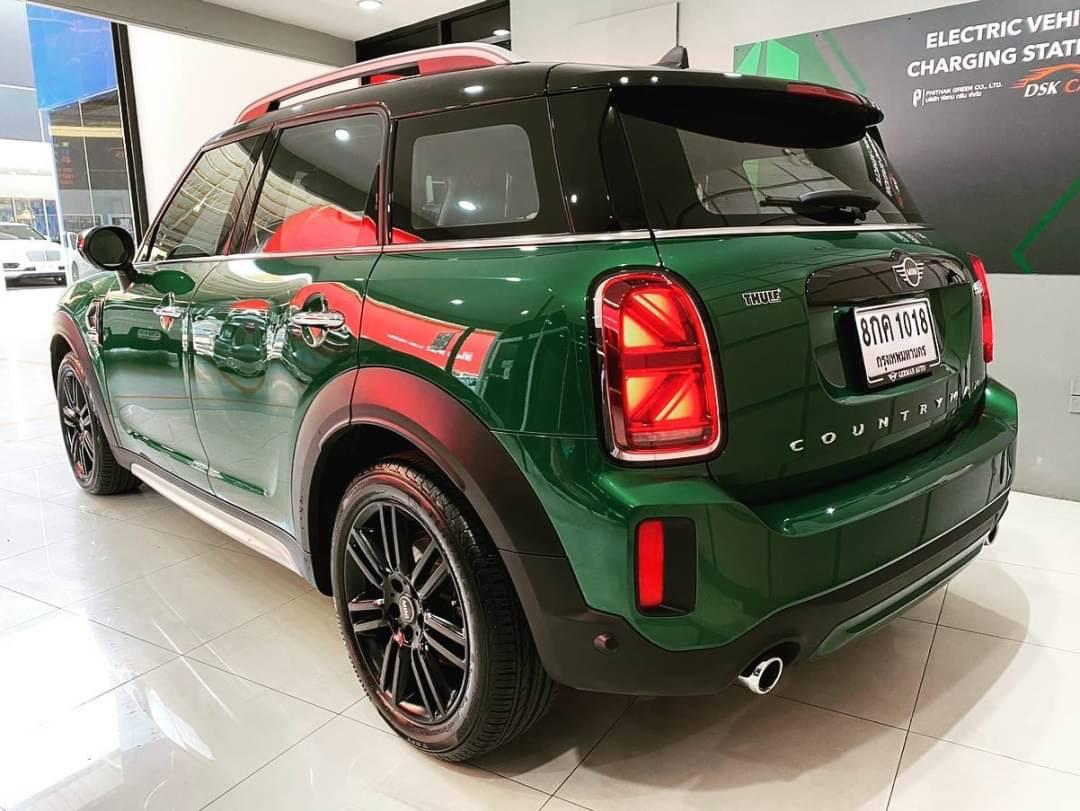license-plate: (839, 288, 950, 396)
